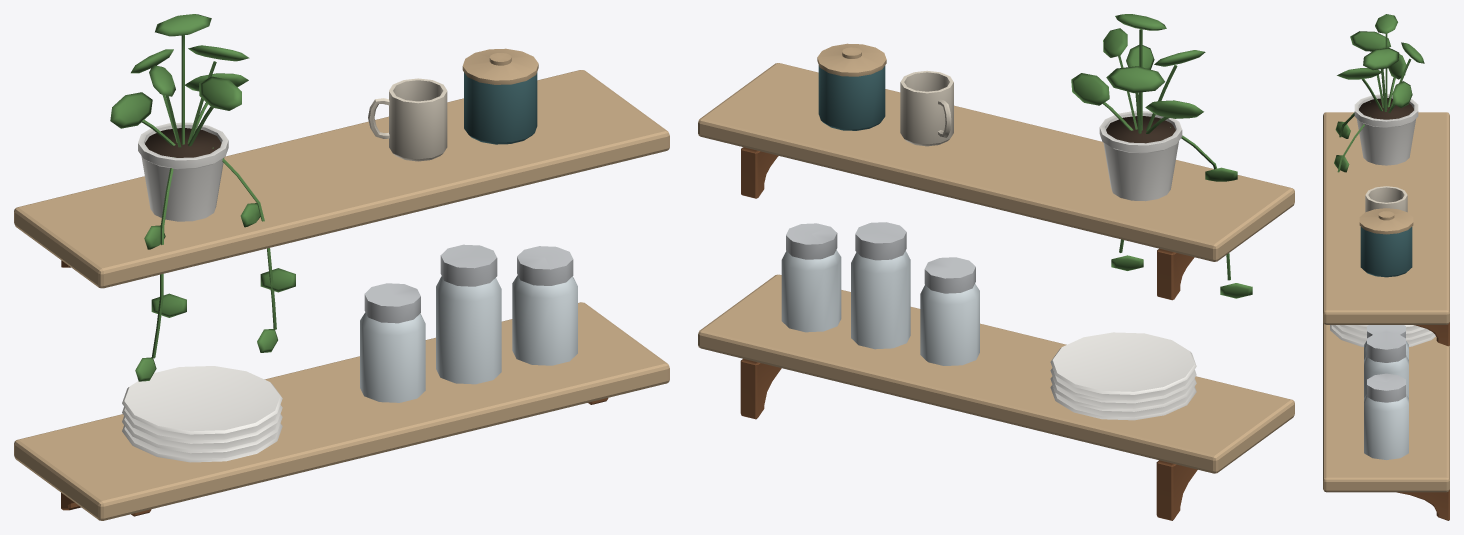
The model's file is kitchenShelfWall.glb.
3 renders of one model, left to right at view 1: azimuth 30°, elevation 25°; view 2: azimuth 150°, elevation 25°; view 3: azimuth 270°, elevation 25°, orthographic. The views are drawn at different scales.
Visible parts, largest first — view 1: body; view 2: body; view 3: body.
Boxes of the visible parts, x1,y1,x2,y2 form: body: [14, 14, 669, 520]; body: [698, 14, 1294, 520]; body: [1323, 14, 1449, 520].
Bounding box in the file's own units: 0.9 × 0.7573 × 0.24.
